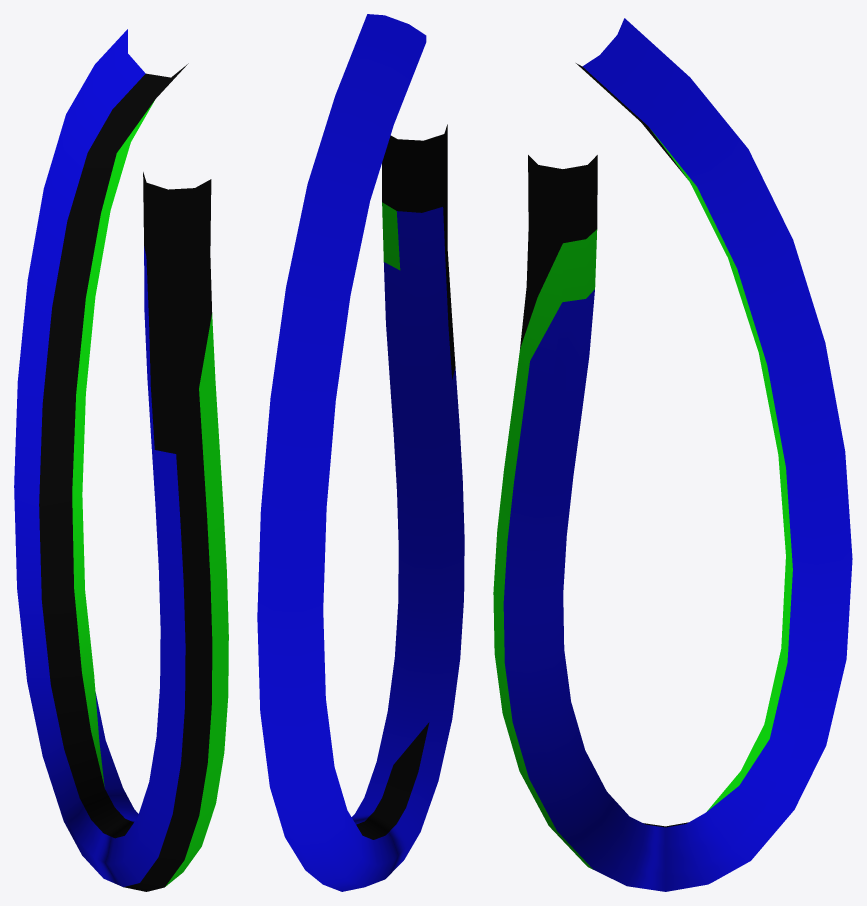
The model's file is VertexPaintedStowedCable.glb.
3 views of the same model, side by side, from view 1: azimuth 30°, elevation 25°; view 2: azimuth 150°, elevation 25°; view 3: azimuth 270°, elevation 25° (orthographic). The views are drawn at different scales.
Parts seen in each view (by area): view 1: PowerflowWallConnectorStowed-Display; view 2: PowerflowWallConnectorStowed-Display; view 3: PowerflowWallConnectorStowed-Display.
Boxes of the visible parts, <box> form: PowerflowWallConnectorStowed-Display: <box>14,29,228,891</box>; PowerflowWallConnectorStowed-Display: <box>257,14,464,891</box>; PowerflowWallConnectorStowed-Display: <box>493,18,852,891</box>.
Size of the model in its own units: 0.03 by 0.4139 by 0.1543.
